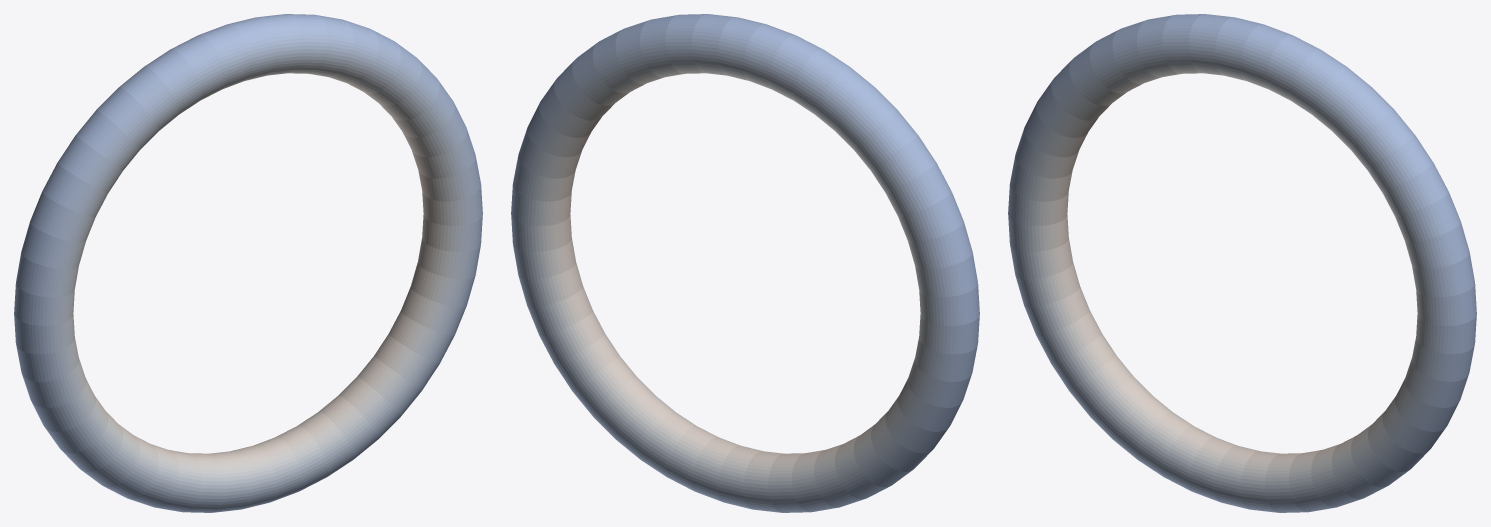
The picture shows the model from 3 angles, left to right: view 1: azimuth 30°, elevation 25°; view 2: azimuth 150°, elevation 25°; view 3: azimuth 330°, elevation 25°; orthographic projection.
Visible parts, largest first — view 1: world; view 2: world; view 3: world.
Boxes of the visible parts, bbox=[...] form: world: bbox=[14, 14, 482, 512]; world: bbox=[511, 14, 979, 512]; world: bbox=[1008, 14, 1476, 512].
Size of the model in its own units: 32.27 by 32.2 by 3.59.
